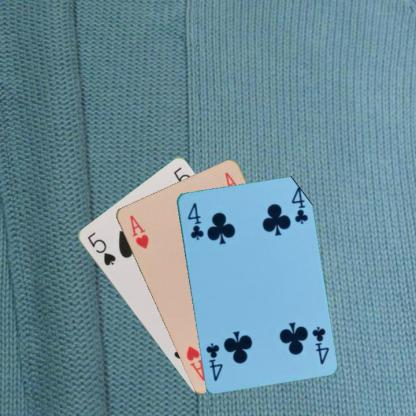4c: (309, 324, 330, 366), (184, 200, 204, 241)
5s: (84, 229, 118, 267)
Ah: (126, 213, 150, 250)
